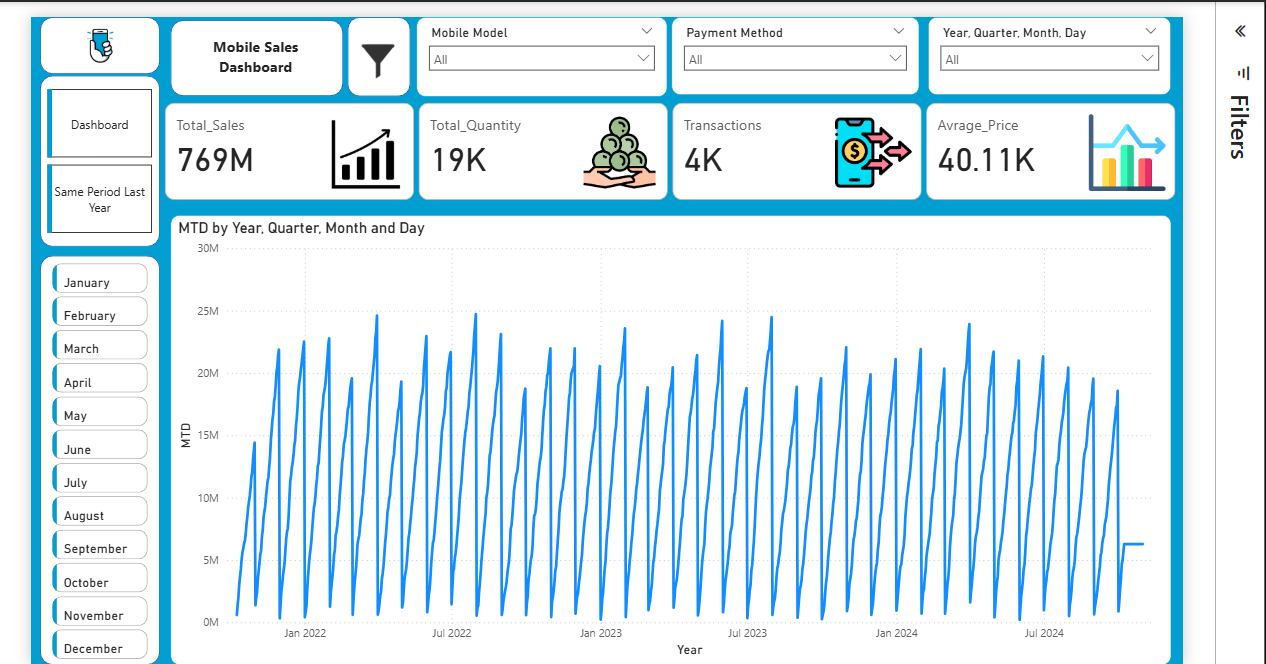

What the dashboard file says about the page in this screenshot:
{"tool":"powerbi","page":{"name":"MTD Report","canvas":[1280,720],"ordinal":1},"visuals":[{"type":"cardVisual","fields":{"Data":["Mobile_Sales Data.Total_Sales","Mobile_Sales Data.Total_Quantity","Mobile_Sales Data.Transactions","Mobile_Sales Data.Avrage_Price"]},"box":[143.1,89.5,1137,118.7],"z":0},{"type":"shape","box":[9.8,0,133.4,63.4],"z":1000},{"type":"image","box":[17.9,1.6,117.1,63.4],"z":2000},{"type":"shape","box":[10,65,133.3,130],"z":3000},{"type":"slicer","fields":{"Values":["Mobile_Sales Data.Mobile Model"]},"box":[428.3,0,278.3,88.3],"z":4000},{"type":"slicer","fields":{"Values":["Mobile_Sales Data.Payment Method"]},"box":[711.7,0,275,86.7],"z":5000},{"type":"slicer","fields":{"Values":["Custom_Calander.Date.Variation.Date Hierarchy.Year","Custom_Calander.Date.Variation.Date Hierarchy.Quarter","Custom_Calander.Date.Variation.Date Hierarchy.Month","Custom_Calander.Date.Variation.Date Hierarchy.Day"]},"box":[996.7,0,270,86.7],"z":6000},{"type":"shape","box":[351.7,0,70,88.3],"z":7000},{"type":"image","box":[346.5,16.3,78.1,69.9],"z":8000},{"type":"shape","box":[154.5,3.3,191.9,84.6],"z":8500},{"type":"textbox","box":[165.9,16.3,165.9,63.4],"z":9000},{"type":"shape","box":[10,208.3,133.3,511.7],"z":11000},{"type":"advancedSlicerVisual","fields":{"Values":["Custom_Calander.Date"]},"box":[18.3,220,116.7,500],"z":12000},{"type":"pageNavigator","box":[18.3,80,116.7,101.7],"z":13000},{"type":"lineChart","fields":{"Y":["Mobile_Sales Data.MTD"],"Category":["Custom_Calander.Date.Variation.Date Hierarchy.Year","Custom_Calander.Date.Variation.Date Hierarchy.Quarter","Custom_Calander.Date.Variation.Date Hierarchy.Month","Custom_Calander.Date.Variation.Date Hierarchy.Day"]},"box":[155,220,1111.7,500],"z":14500}]}

Visuals, with their boxes on the page's 1280x720 design canvas (x1, y1, x2, y2). These are canvas units, not pixel positions in the 1266x664 screenshot, which may show the page scaled, cropped or inside an application window:
cardVisual - Mobile_Sales Data.Total_Sales x Mobile_Sales Data.Total_Quantity: (143,90,1280,208)
shape: (10,0,143,63)
image: (18,2,135,65)
shape: (10,65,143,195)
slicer - Mobile_Sales Data.Mobile Model: (428,0,707,88)
slicer - Mobile_Sales Data.Payment Method: (712,0,987,87)
slicer - Custom_Calander.Date.Variation.Date Hierarchy.Year x Custom_Calander.Date.Variation.Date Hierarchy.Quarter: (997,0,1267,87)
shape: (352,0,422,88)
image: (346,16,425,86)
shape: (154,3,346,88)
textbox: (166,16,332,80)
shape: (10,208,143,720)
advancedSlicerVisual - Custom_Calander.Date: (18,220,135,720)
pageNavigator: (18,80,135,182)
lineChart - Mobile_Sales Data.MTD x Custom_Calander.Date.Variation.Date Hierarchy.Year: (155,220,1267,720)
